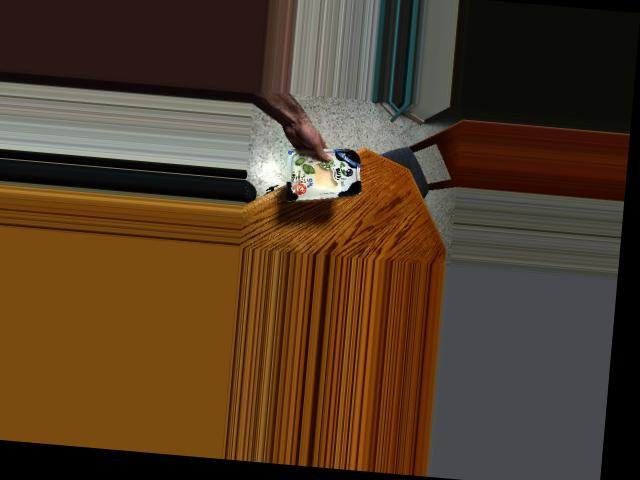cheese: (283, 134, 362, 207)
